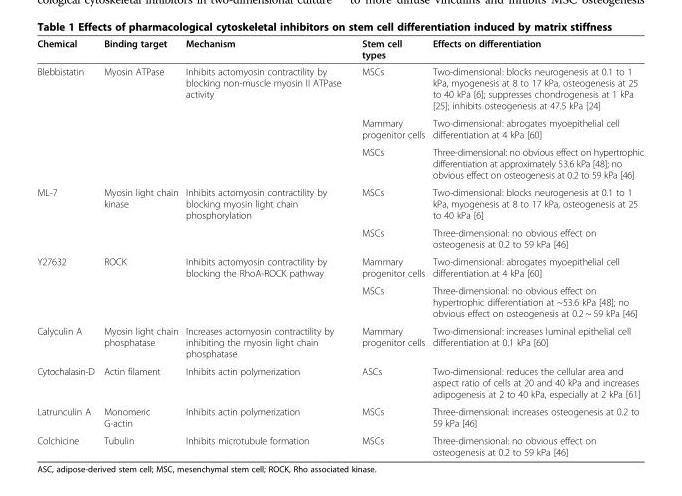table: (36, 37, 643, 457)
table column: (428, 37, 643, 457), (181, 37, 350, 457), (98, 37, 181, 457), (350, 37, 428, 457), (36, 37, 98, 457)
table column header: (36, 37, 643, 62)
table row: (36, 62, 643, 113), (36, 142, 643, 183), (36, 321, 643, 362), (36, 183, 643, 223), (36, 281, 643, 321), (36, 362, 643, 402), (36, 113, 643, 142), (36, 223, 643, 252), (36, 252, 643, 281), (36, 402, 643, 431), (36, 431, 643, 457), (36, 37, 643, 62)
table spanning cell: (36, 62, 98, 183), (36, 183, 98, 252), (36, 252, 98, 321)
